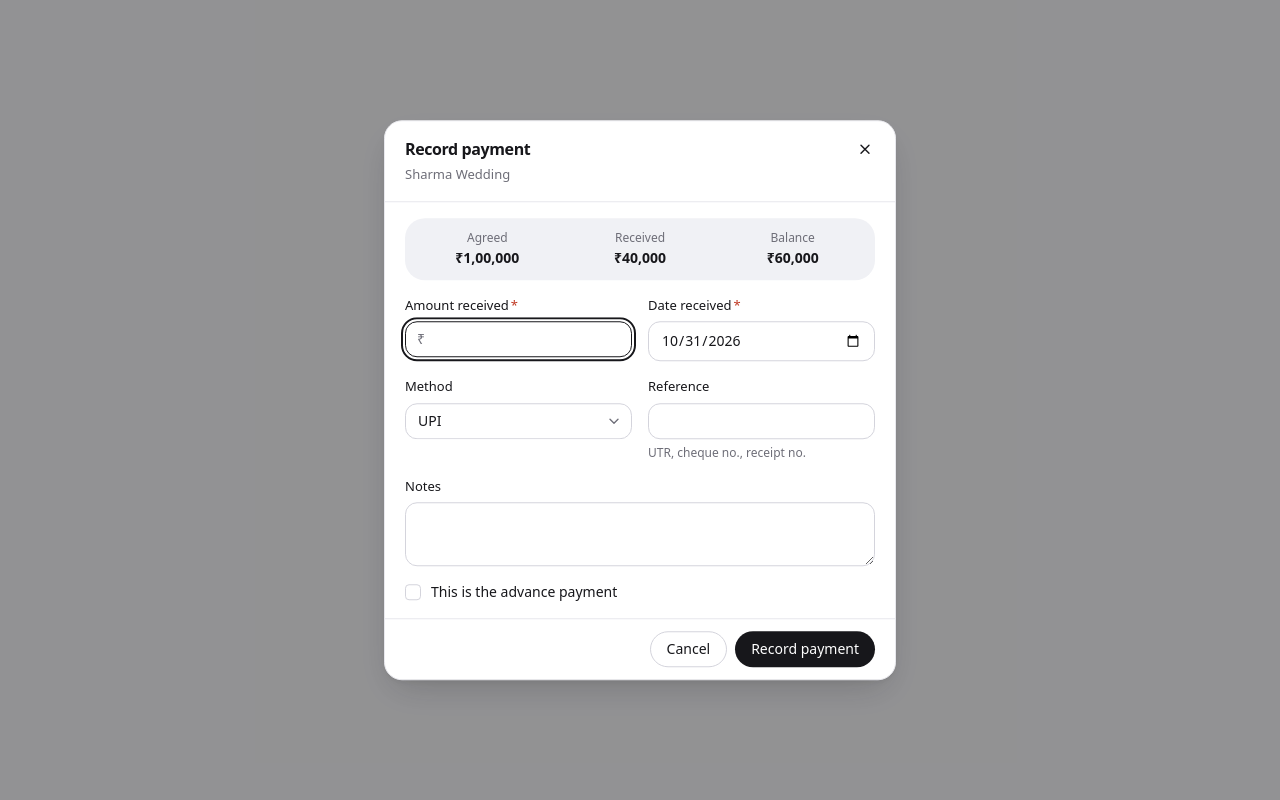
it: record payment dialog › keeps the dialog open and the data intact when the server refuses
Type "1000" into the field labelled "Amount received*".
click(518, 339); type("1000")  # box [405, 321, 632, 357]
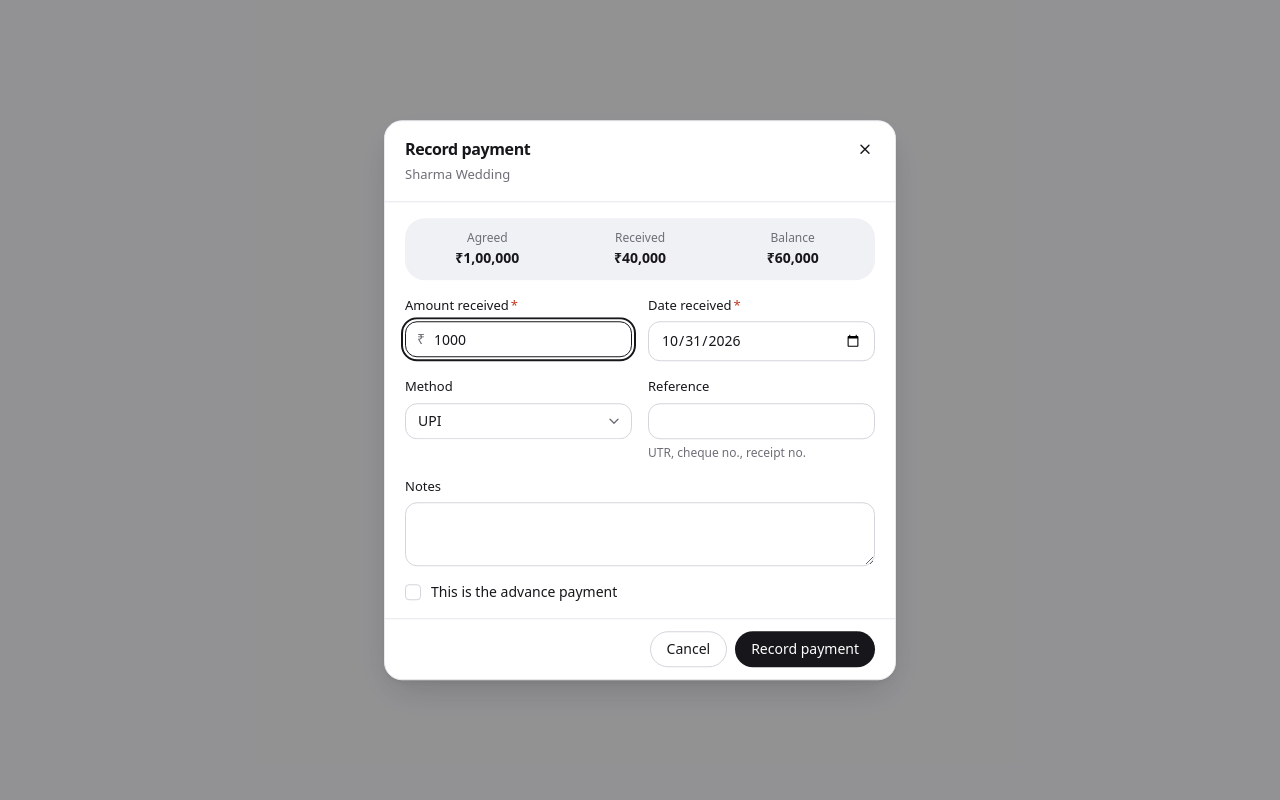
Click the button "Record payment".
click(805, 649)  # box [735, 631, 875, 667]
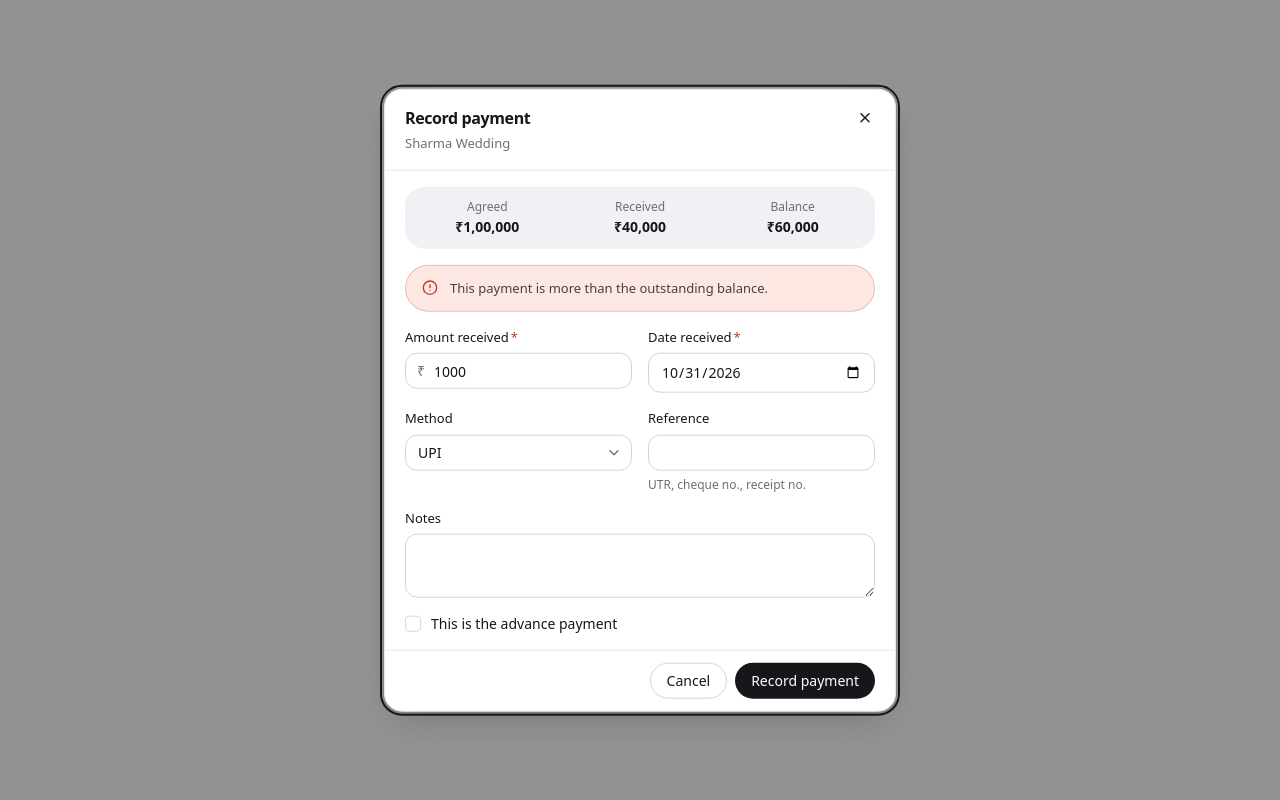
Now the text "This payment is more than the outstanding balance." is shown, box [450, 278, 768, 296]
